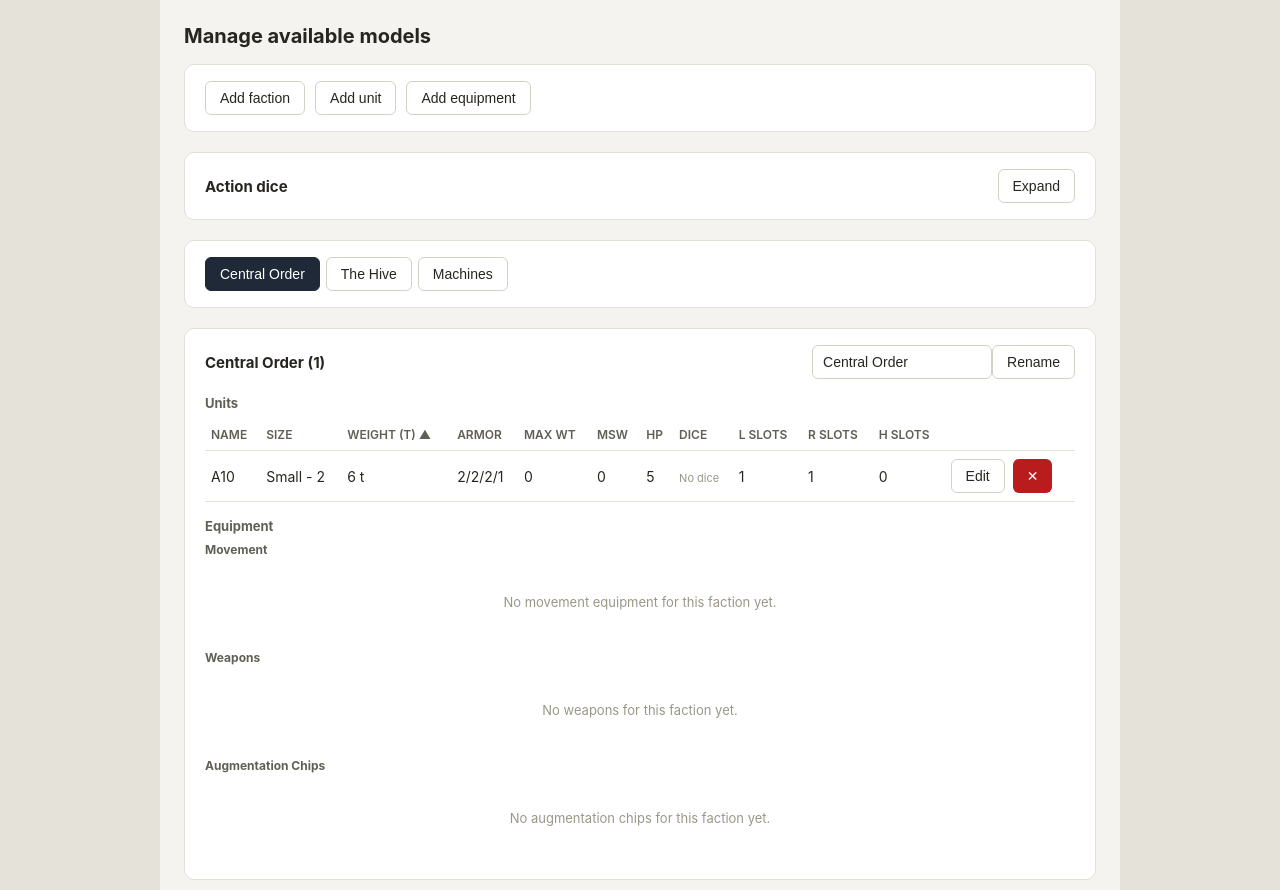
ManagePage (#199) › adds a new manufacturer and a free Standard Movement item for it
Click the button "Add faction" at (255, 98), box [205,81,305,115]
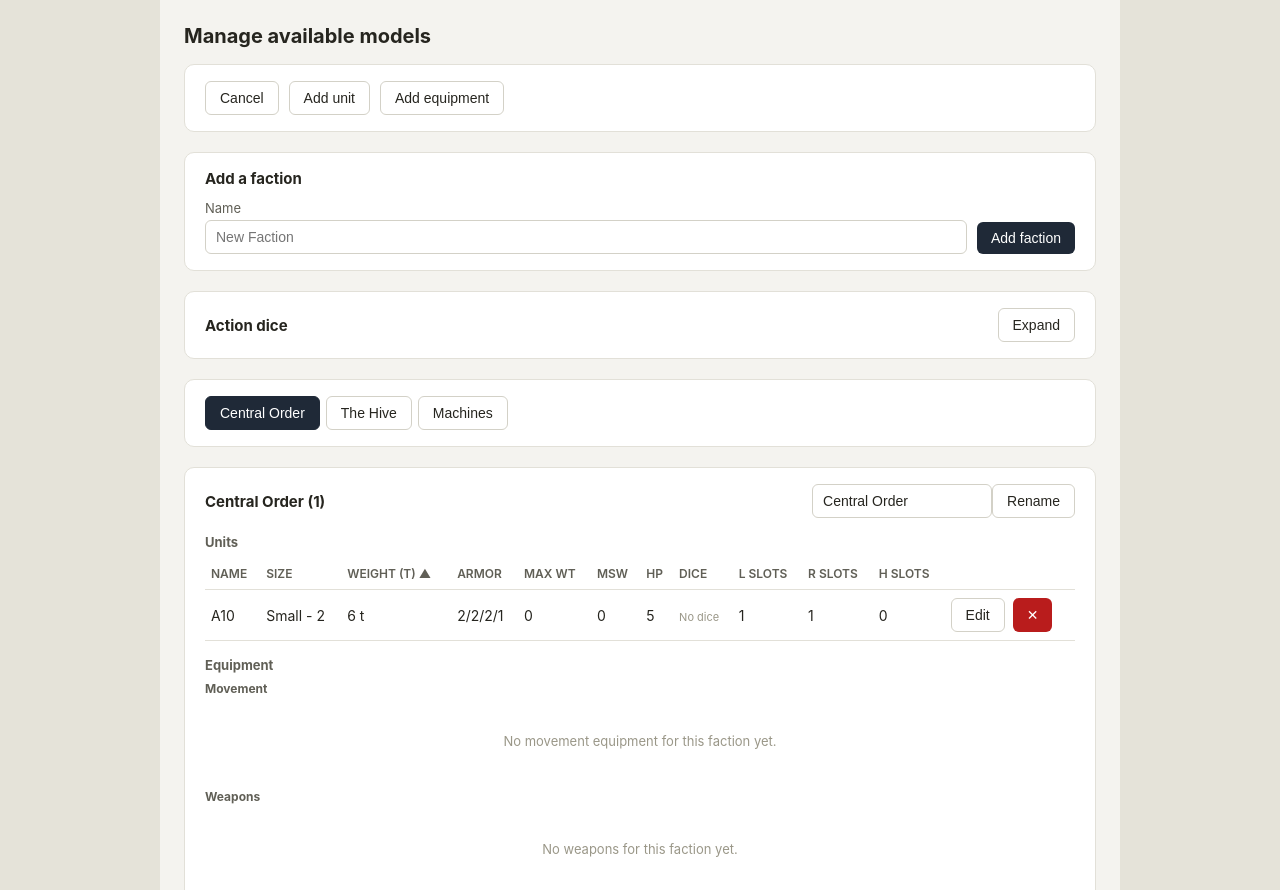
Type "Homebrew Corp" into the field labelled "Name" at (586, 237), box [205,220,967,254]
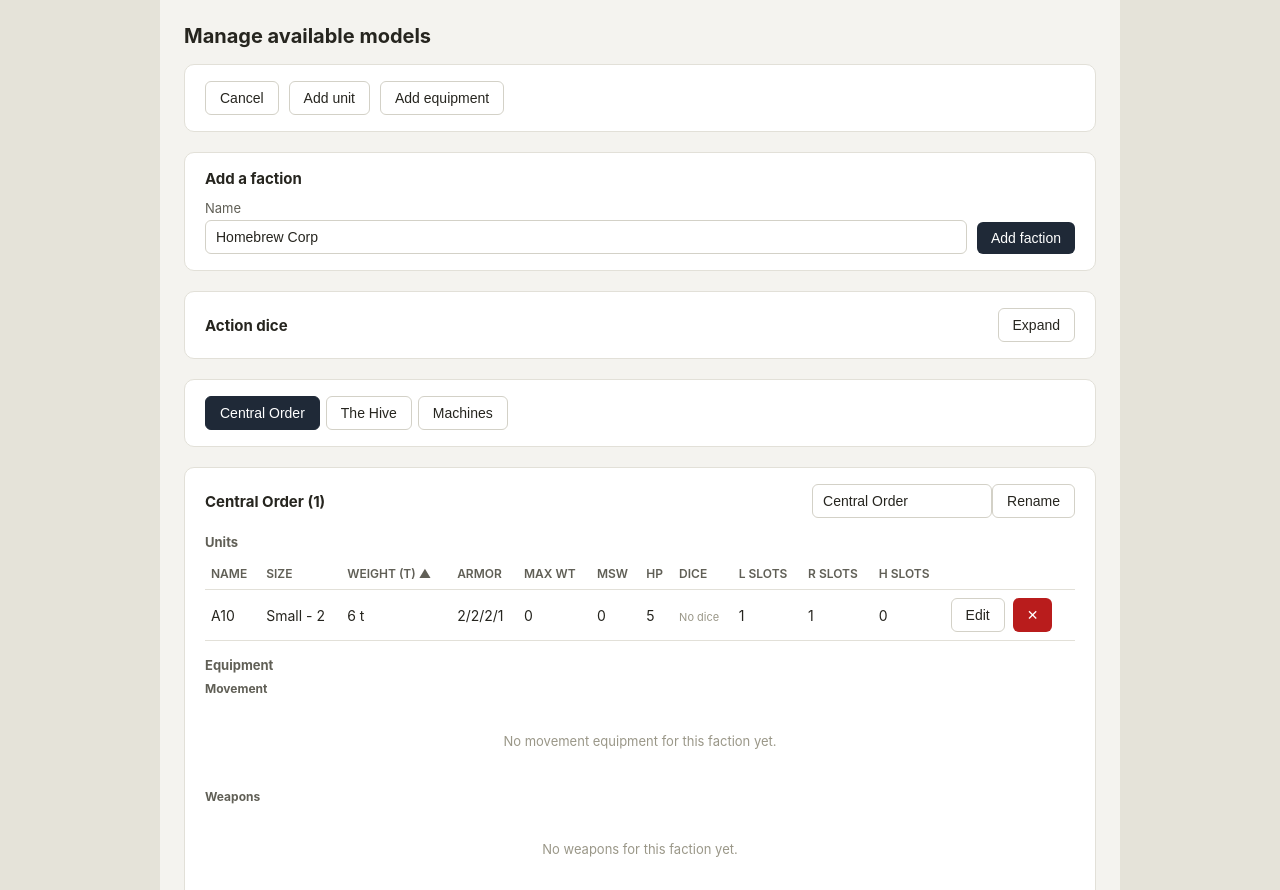
Click the button "Add faction" at (1026, 238), box [977,222,1075,254]
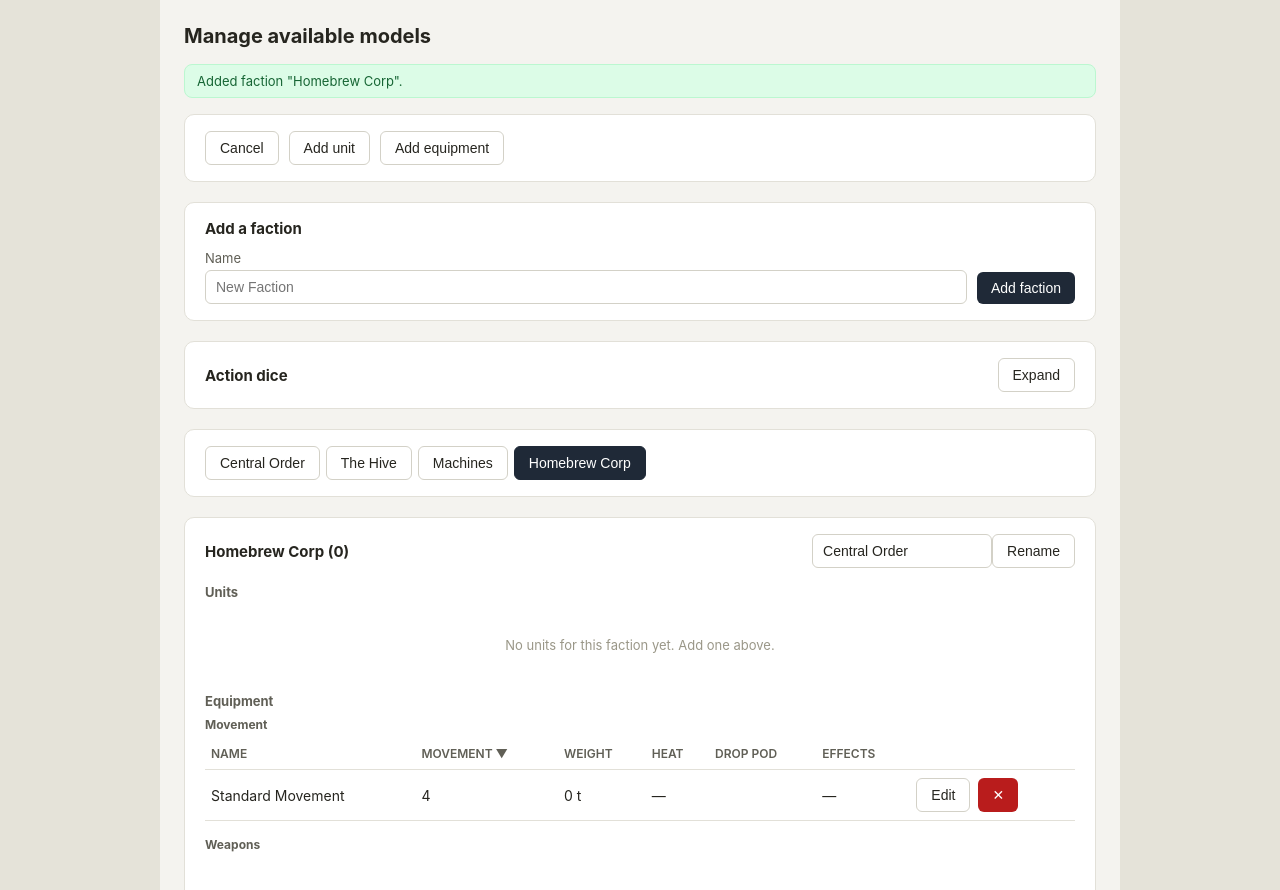
Result: the text "Added faction \"Homebrew Corp\"." is shown at [184,64,1096,98]
